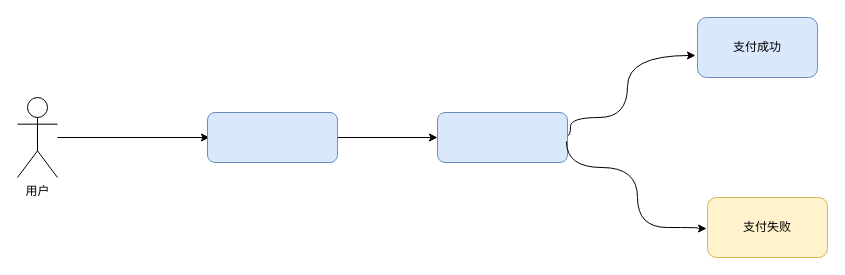
The diagram is 845 pixels wide and 275 high, and some of its shapes have lost their labels. The box of each missing label's shape, as (x1, y1, x2, y2) in pixels:
下单: (206, 112, 338, 162)
支付: (436, 112, 568, 162)
